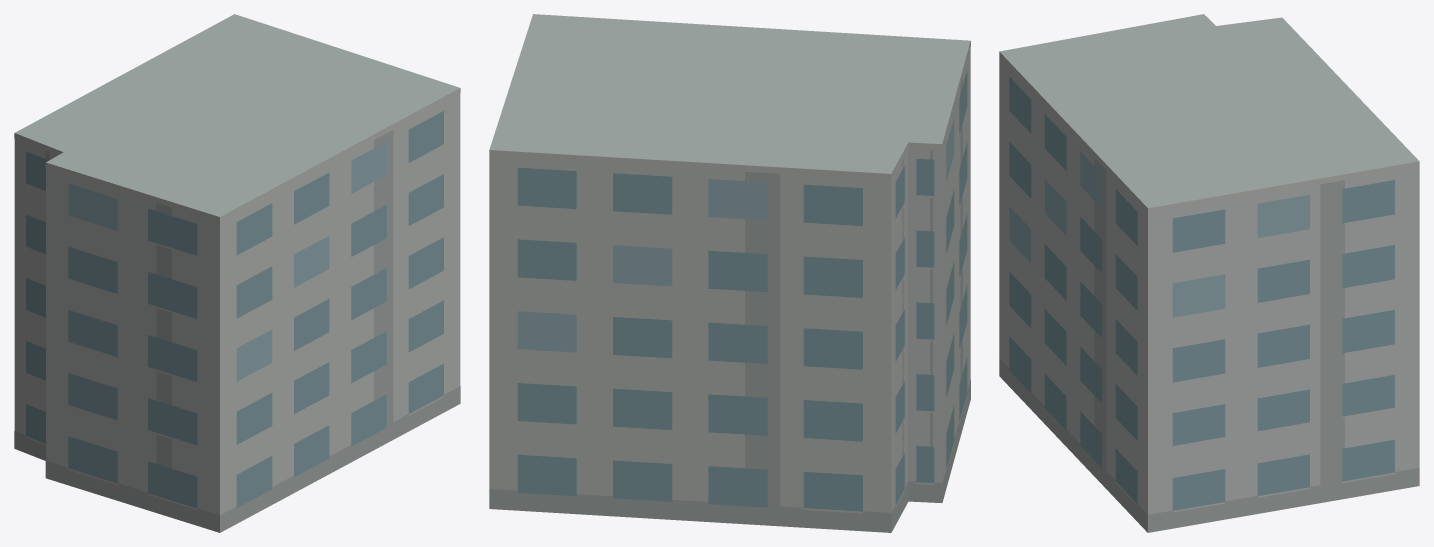
File: survey-upis-32845574.glb
The picture shows the model from 3 angles, left to right: view 1: azimuth 30°, elevation 25°; view 2: azimuth 150°, elevation 25°; view 3: azimuth 270°, elevation 25°; orthographic projection. The views are drawn at different scales.
Parts seen in each view (by area): view 1: survey-upis-32845574.tmp; view 2: survey-upis-32845574.tmp; view 3: survey-upis-32845574.tmp.
Part boxes in pixels (<box>): survey-upis-32845574.tmp: <box>14,14,460,532</box>; survey-upis-32845574.tmp: <box>489,14,970,532</box>; survey-upis-32845574.tmp: <box>999,14,1419,532</box>.
Size of the model in its own units: 17.21 by 13.4 by 15.73.
